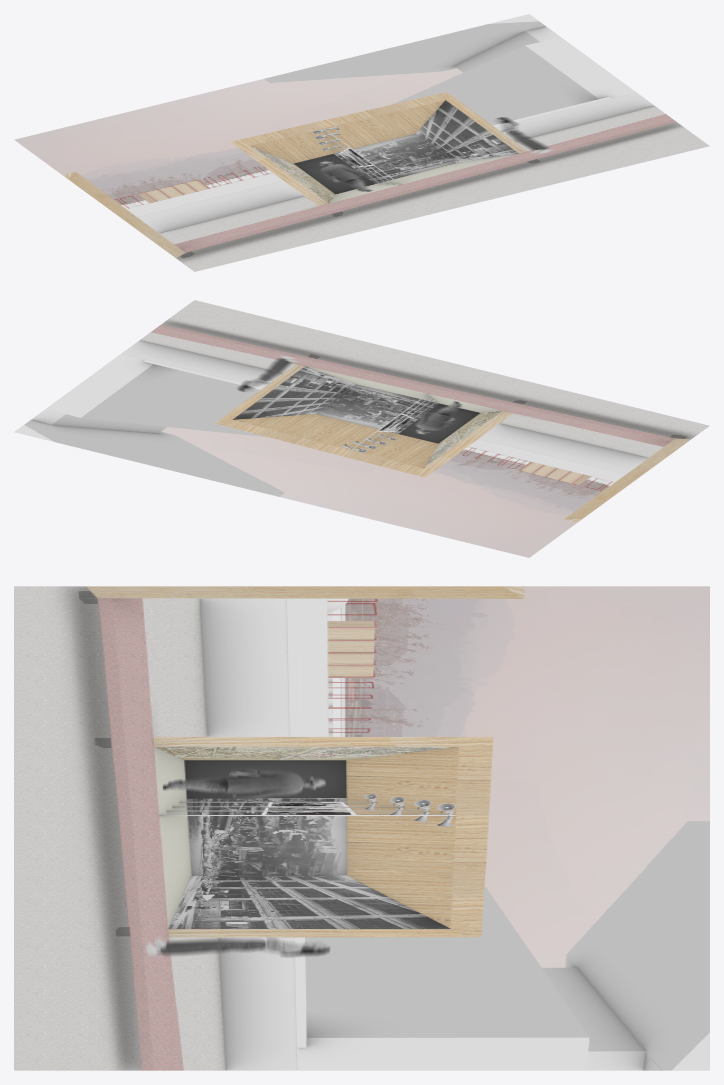
The model's file is fase2.obj.
3 views of the same model, one above another, from view 1: azimuth 30°, elevation 25°; view 2: azimuth 150°, elevation 25°; view 3: azimuth 270°, elevation 25° (orthographic). The views are drawn at different scales.
Parts seen in each view (by area): view 1: Plane001; view 2: Plane001; view 3: Plane001.
Boxes of the visible parts, bbox=[...] form: Plane001: bbox=[14, 14, 709, 271]; Plane001: bbox=[14, 300, 709, 557]; Plane001: bbox=[14, 586, 709, 1070].
Bounding box in the file's own units: 41.67 × 0 × 25.29.
1 material, 1 textured.
